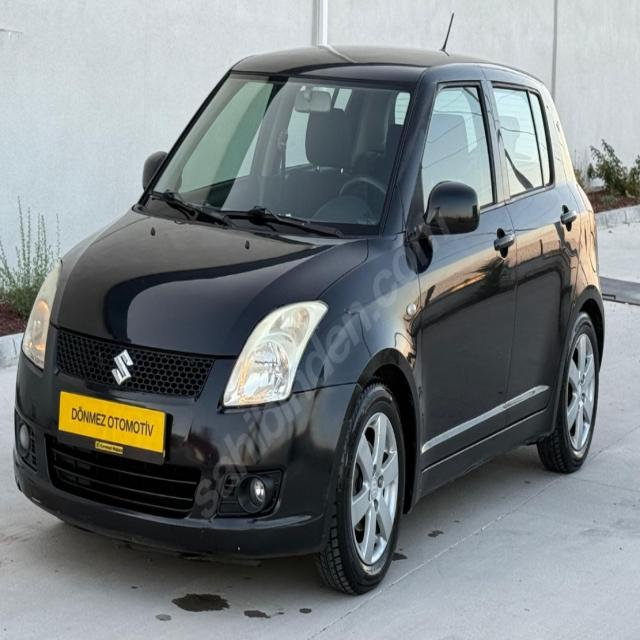suzuki: (112, 344, 134, 389)
